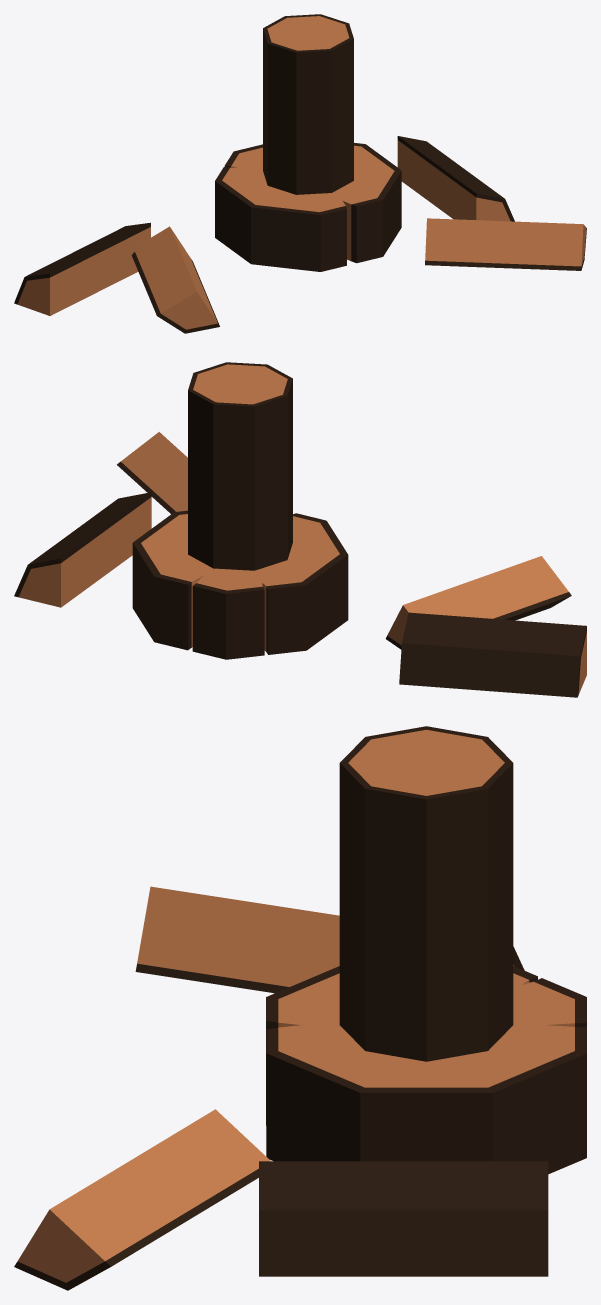
The model's file is s_choppingblock.FBX.
3 renders of one model, top to bottom at view 1: azimuth 30°, elevation 25°; view 2: azimuth 150°, elevation 25°; view 3: azimuth 270°, elevation 25°, orthographic. The views are drawn at different scales.
Parts seen in each view (by area): view 1: s_log_splitter, s_log_fourth_01, s_log_fourth_05, s_log_fourth_08, s_log_fourth_06, s_log_fourth_07, s_log_fourth_02, s_log_fourth_04, s_log_fourth_03; view 2: s_log_splitter, s_log_fourth_08, s_log_fourth_04, s_log_fourth_06, s_log_fourth_07, s_log_fourth_03, s_log_fourth_05, s_log_fourth_01, s_log_fourth_02; view 3: s_log_splitter, s_log_fourth_06, s_log_fourth_03, s_log_fourth_02, s_log_fourth_05, s_log_fourth_07, s_log_fourth_04, s_log_fourth_01.
Boxes of the visible parts, x1=… form: s_log_splitter: x1=215, y1=143, x2=401, y2=271; s_log_fourth_01: x1=267, y1=33, x2=331, y2=194; s_log_fourth_05: x1=425, y1=218, x2=586, y2=270; s_log_fourth_08: x1=14, y1=222, x2=150, y2=315; s_log_fourth_06: x1=397, y1=136, x2=514, y2=221; s_log_fourth_07: x1=131, y1=226, x2=219, y2=333; s_log_fourth_02: x1=309, y1=23, x2=353, y2=192; s_log_fourth_04: x1=263, y1=16, x2=307, y2=184; s_log_fourth_03: x1=285, y1=14, x2=348, y2=33; s_log_splitter: x1=132, y1=510, x2=348, y2=659; s_log_fourth_08: x1=399, y1=612, x2=586, y2=697; s_log_fourth_04: x1=213, y1=384, x2=287, y2=570; s_log_fourth_06: x1=14, y1=492, x2=151, y2=607; s_log_fourth_07: x1=385, y1=556, x2=571, y2=649; s_log_fourth_03: x1=188, y1=373, x2=239, y2=567; s_log_fourth_05: x1=117, y1=432, x2=187, y2=514; s_log_fourth_01: x1=240, y1=364, x2=292, y2=558; s_log_fourth_02: x1=194, y1=362, x2=266, y2=384; s_log_splitter: x1=266, y1=966, x2=586, y2=1174; s_log_fourth_06: x1=259, y1=1161, x2=548, y2=1276; s_log_fourth_03: x1=426, y1=763, x2=513, y2=1061; s_log_fourth_02: x1=339, y1=763, x2=426, y2=1061; s_log_fourth_05: x1=14, y1=1109, x2=270, y2=1290; s_log_fourth_07: x1=135, y1=886, x2=339, y2=993; s_log_fourth_04: x1=426, y1=726, x2=512, y2=762; s_log_fourth_01: x1=340, y1=726, x2=426, y2=762.
Bounding box in the file's own units: 1.79 × 0.7 × 0.9901.
